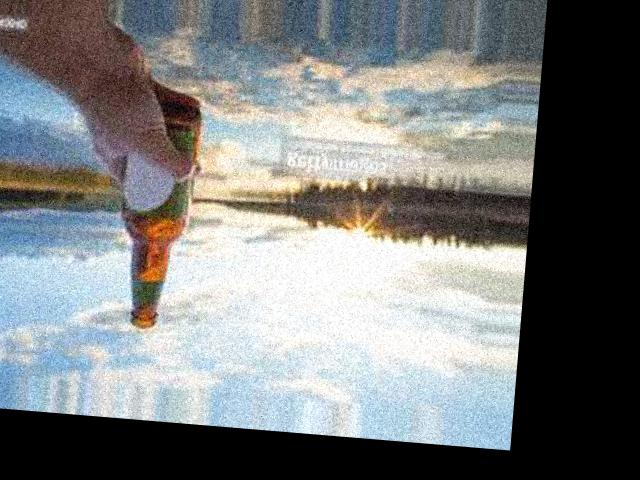beer: (110, 102, 206, 334)
